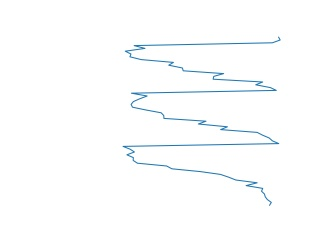distributaryMouthBar: (121, 37, 282, 208)
